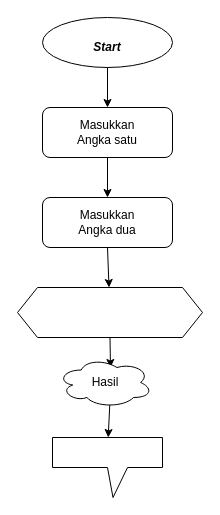
The diagram is 220 pixels wide and 515 high, and some of its shapes have lost their labels. Here are the shapes that lost their labels. From the top down, the box of each, then its label:
(16, 286, 202, 338): Angka di jumlahkan di tambah/dikali/dikurang/dibagi
(52, 436, 162, 498): Finish
